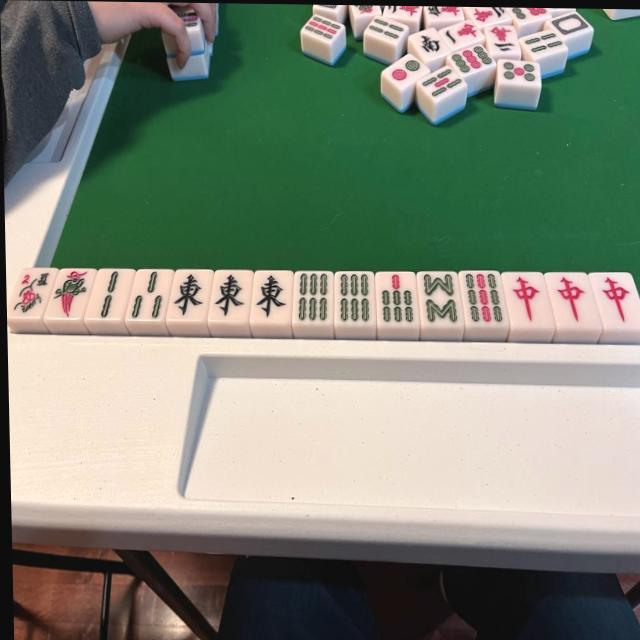east: (212, 270, 250, 320), (255, 271, 290, 321), (172, 270, 207, 317)
ff2: (13, 268, 52, 317)
s1: (53, 268, 91, 318)
s2: (95, 269, 127, 319)
s3: (130, 270, 167, 320)
s6: (294, 271, 332, 323), (337, 272, 374, 324)
s7: (378, 273, 417, 325)
s8: (422, 272, 460, 325)
s9: (463, 272, 505, 325)
zhong: (553, 274, 589, 325), (599, 275, 632, 326), (511, 274, 544, 324)
